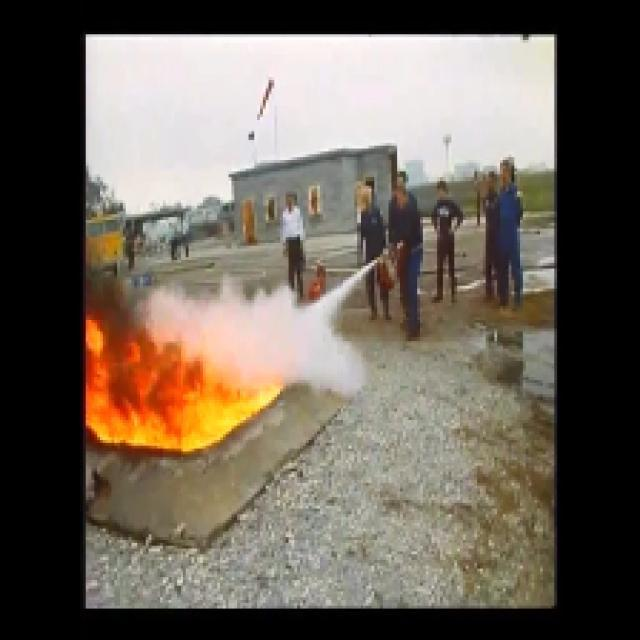Fire: (87, 318, 243, 454)
